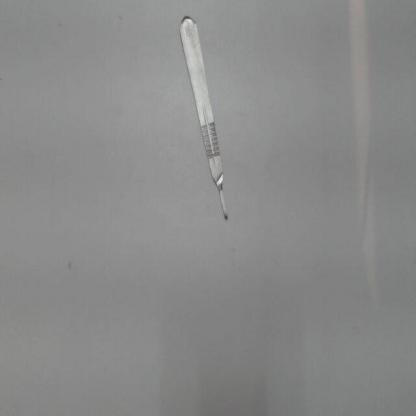No.3 BP Handle: (174, 7, 237, 230)
